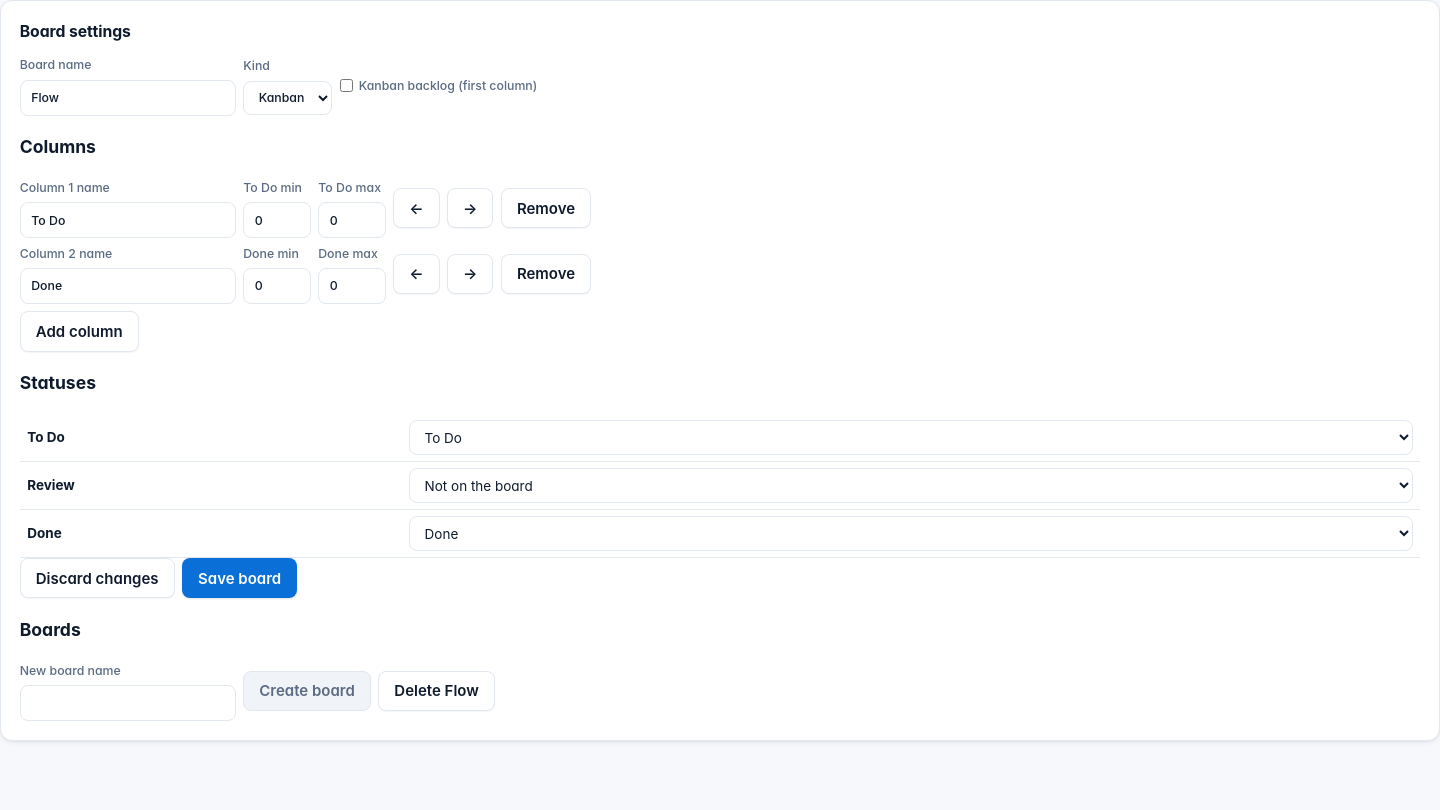
Test: BoardSettings (S44) › adds a column, maps a status into it, sets WIP limits and saves
Expected: the dropdown named "Column for Review" shows "Not on the board", [409, 468, 1413, 503]
Click the button "Add column". click: {"x": 79, "y": 332}
box: [20, 312, 139, 352]
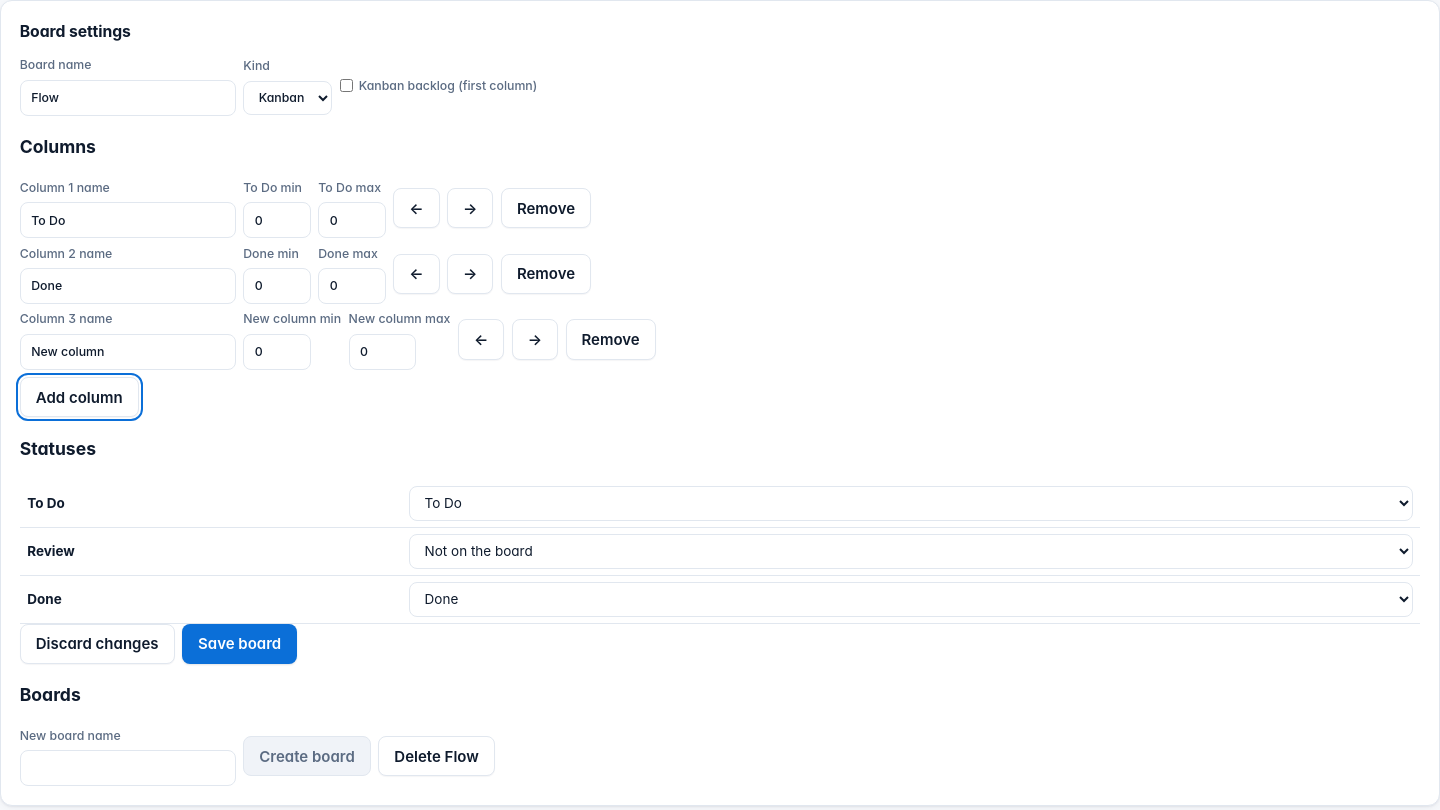
Replace the text in the field labelled "Column 3 name" with "Review". click: {"x": 128, "y": 352}
box: [20, 334, 236, 370]
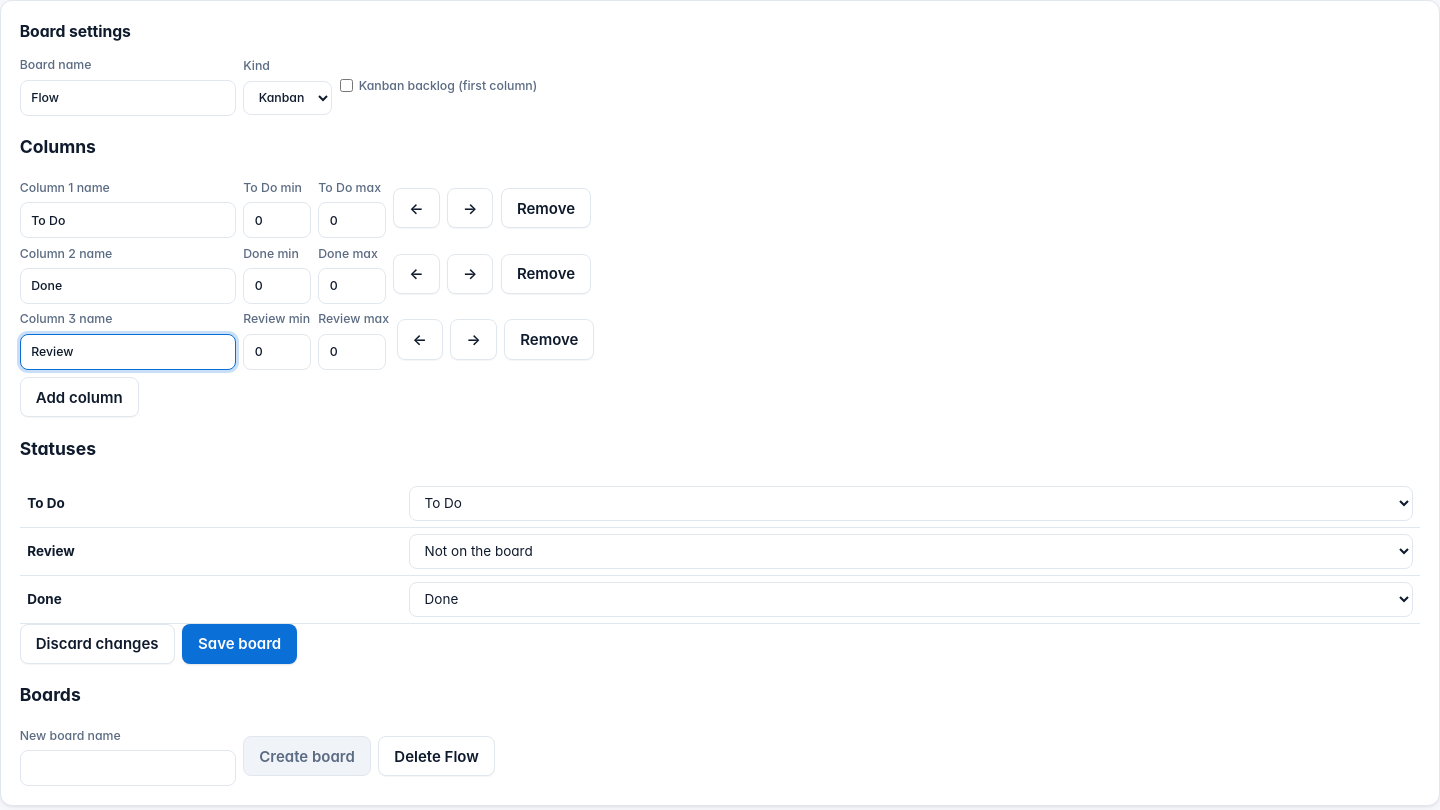
Click the button named "Move Review left". click: {"x": 420, "y": 339}
box: [397, 319, 443, 360]
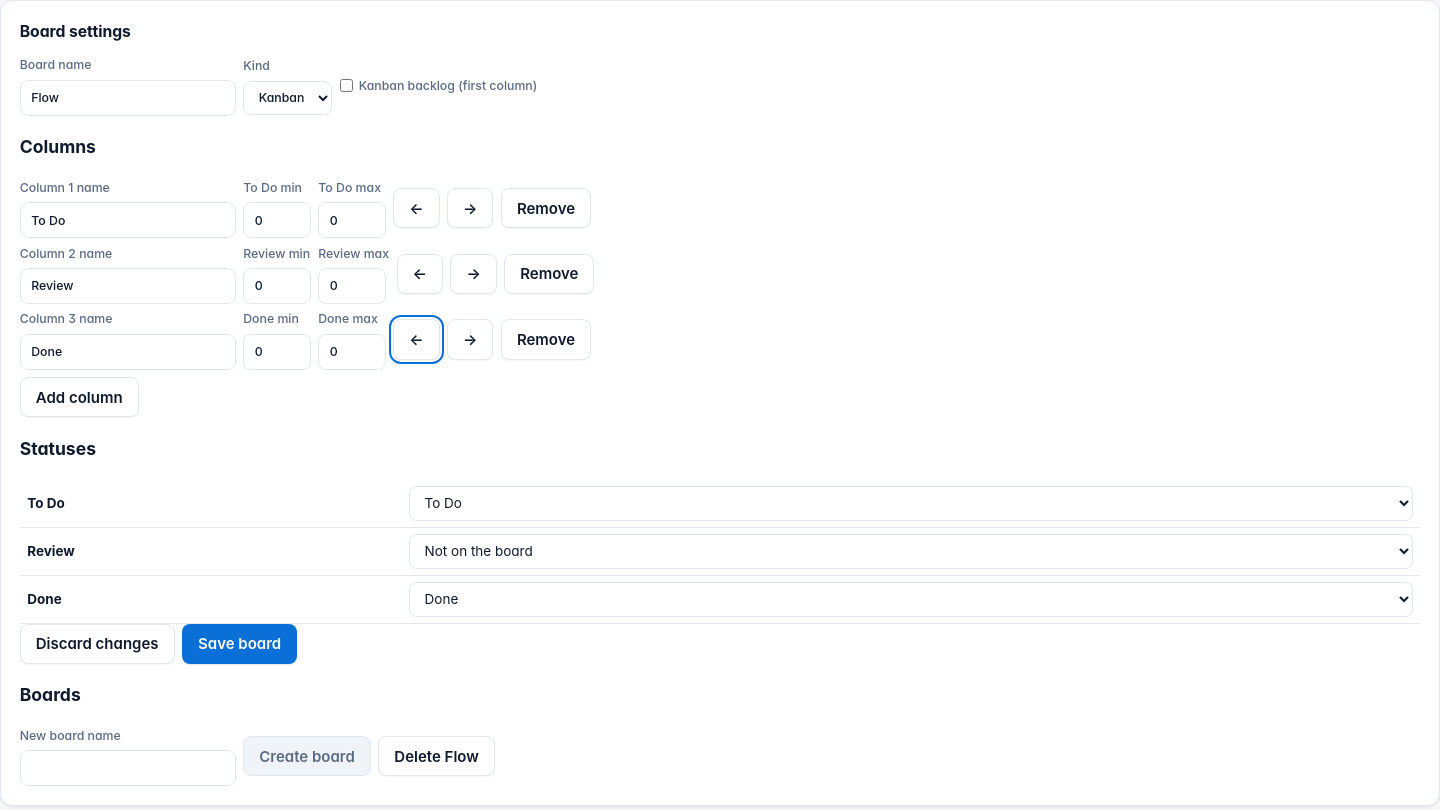
Select "Review" in the dropdown named "Column for Review". click: {"x": 911, "y": 551}
box: [409, 534, 1413, 569]
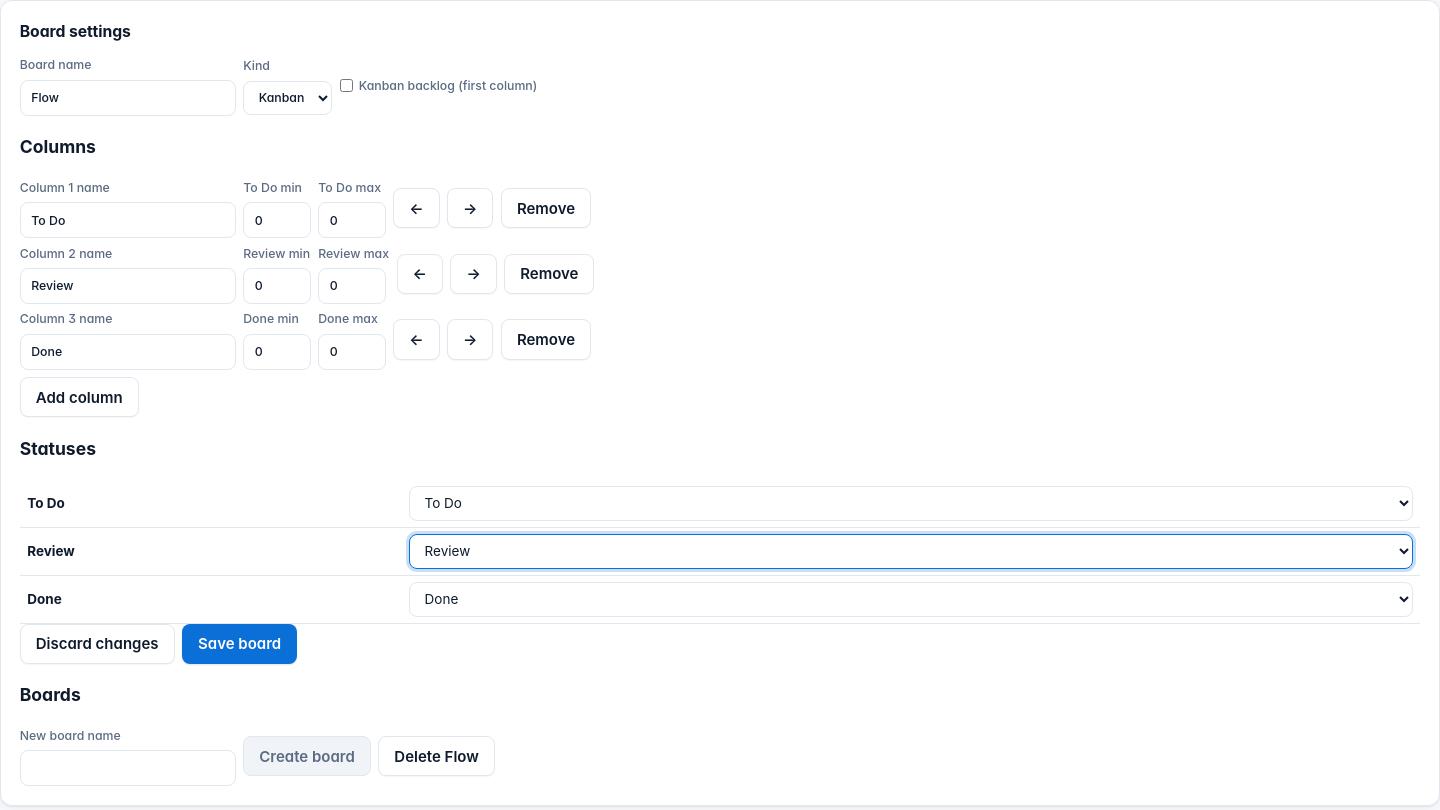
Type "2" into the number field labelled "Review max". click: {"x": 352, "y": 286}
box: [318, 268, 386, 304]
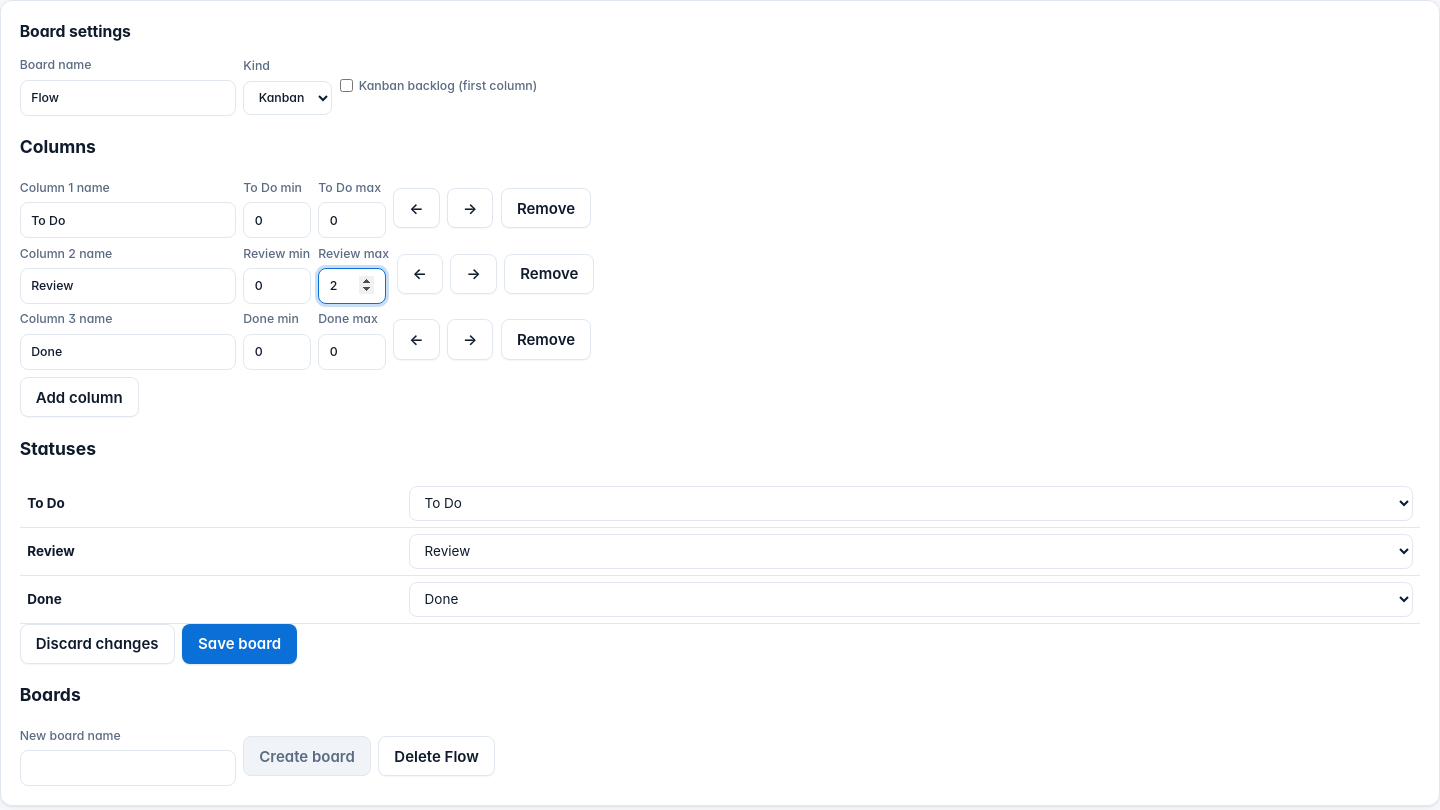
Click the button "Save board". click: {"x": 240, "y": 644}
box: [182, 624, 297, 664]
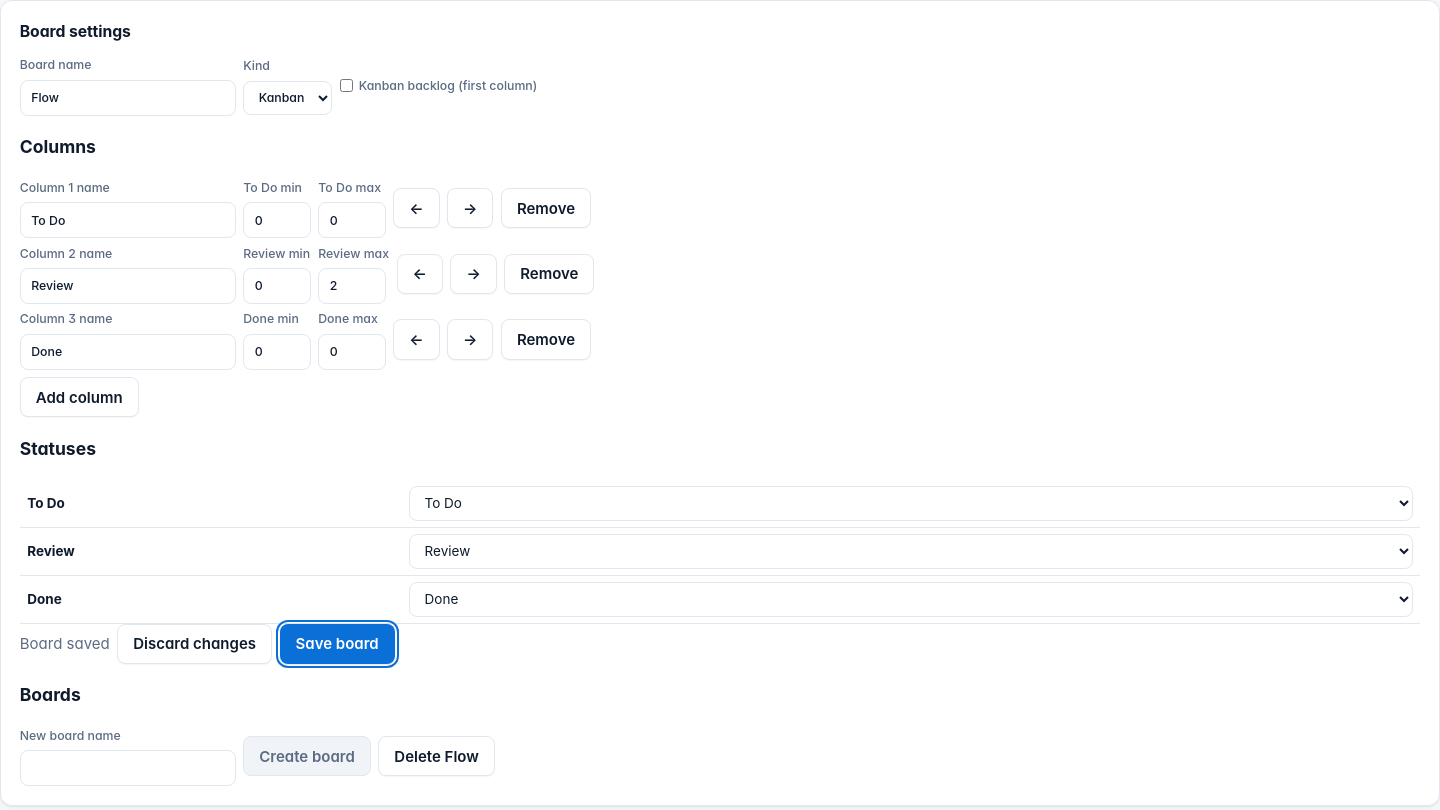
Result: the message reads "Board saved" at [20, 634, 110, 653]
